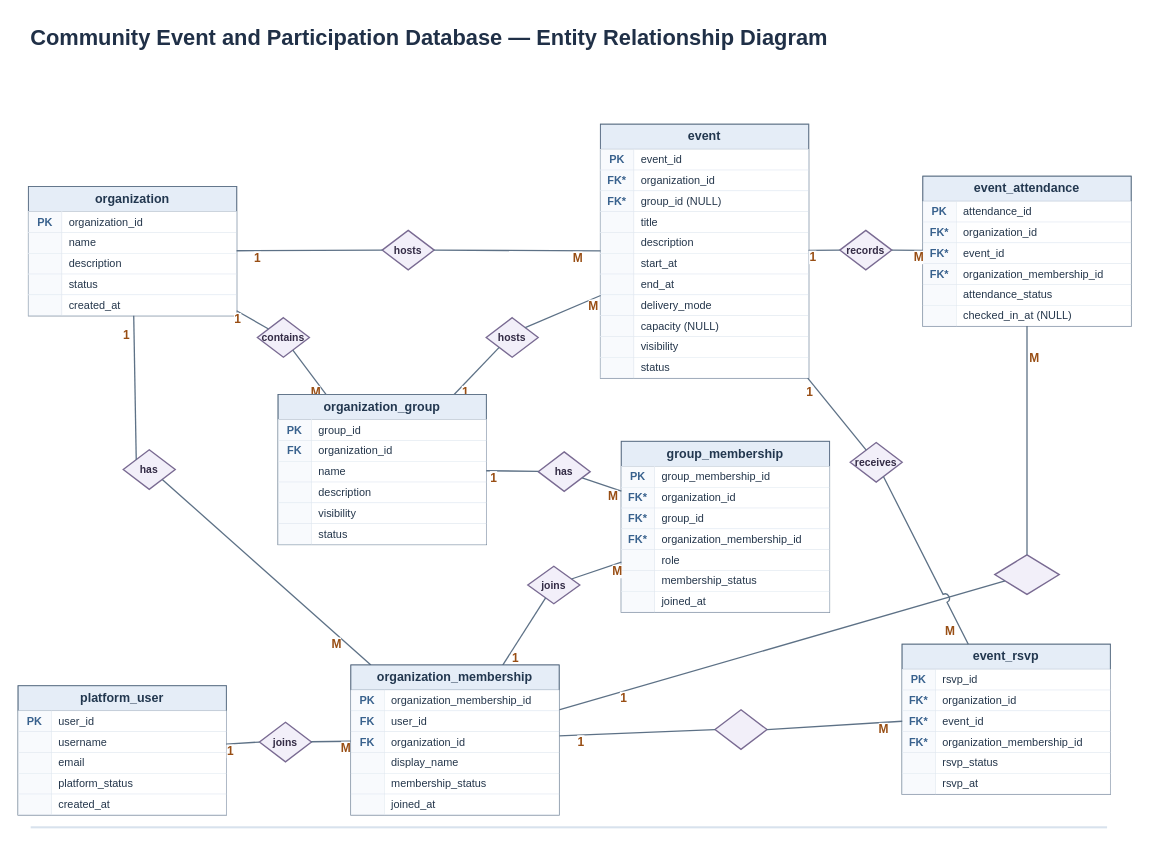
The diagram is 1150 pixels wide and 846 high, and some of its shapes have lost their labels. The shapes that lost their labels are listed below. From the top down, each one's centre as x and y in pixels, then its label:
At (x=1026, y=574): "has record".
At (x=740, y=729): "submits".
